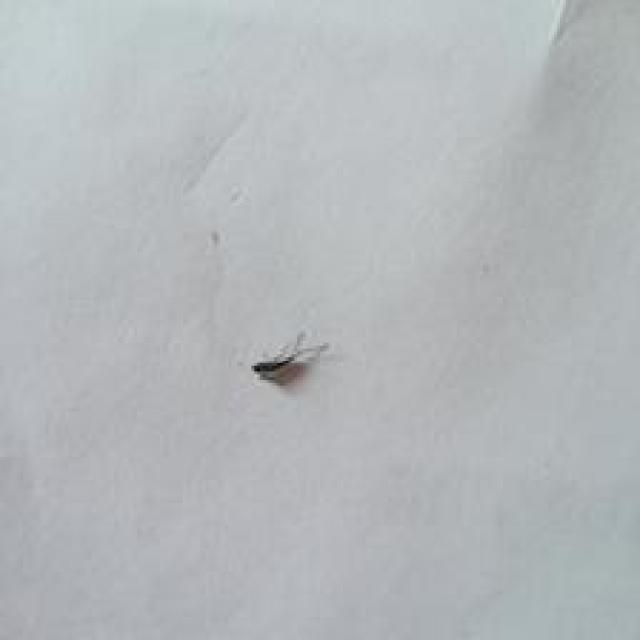Aedes albopictus: (250, 330, 330, 384)
